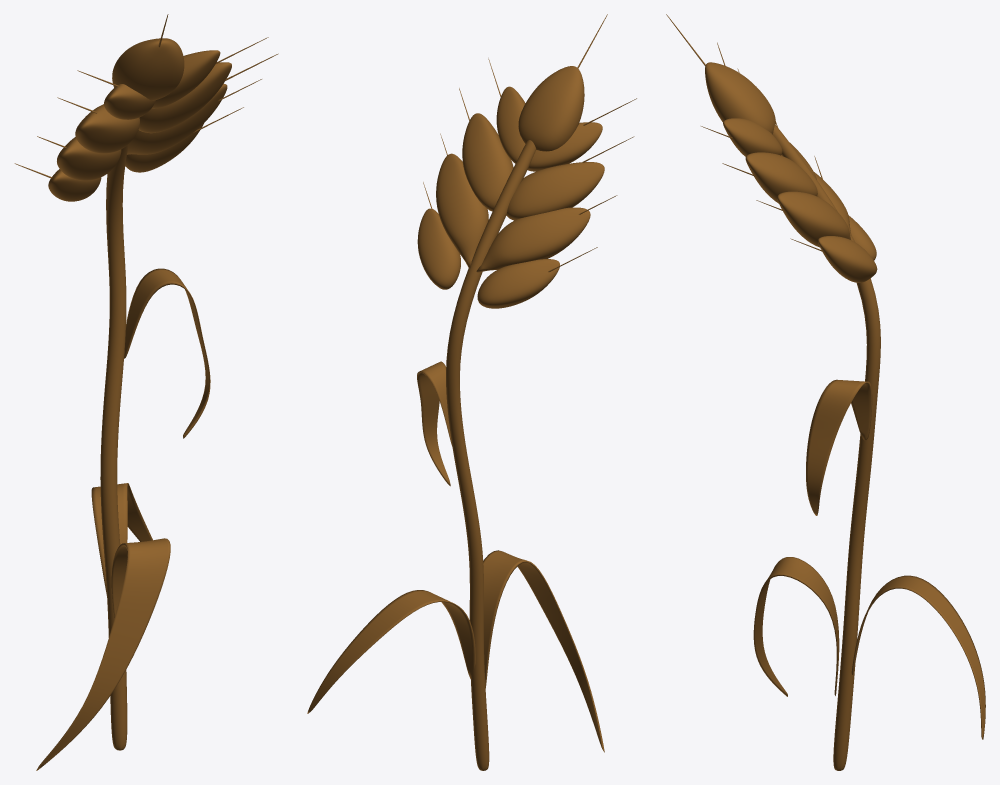
File: TrigoPodre.fbx
3 views of the same model, side by side, from view 1: azimuth 30°, elevation 25°; view 2: azimuth 150°, elevation 25°; view 3: azimuth 270°, elevation 25° (orthographic). The views are drawn at different scales.
Visible parts, largest first — view 1: TrigoPodre; view 2: TrigoPodre; view 3: TrigoPodre.
Part boxes in pixels (left/top/right/bottom): TrigoPodre: left=14, top=14, right=278, bottom=770; TrigoPodre: left=307, top=14, right=636, bottom=770; TrigoPodre: left=666, top=14, right=985, bottom=770.
Size of the model in its own units: 32.74 by 105 by 41.42.
